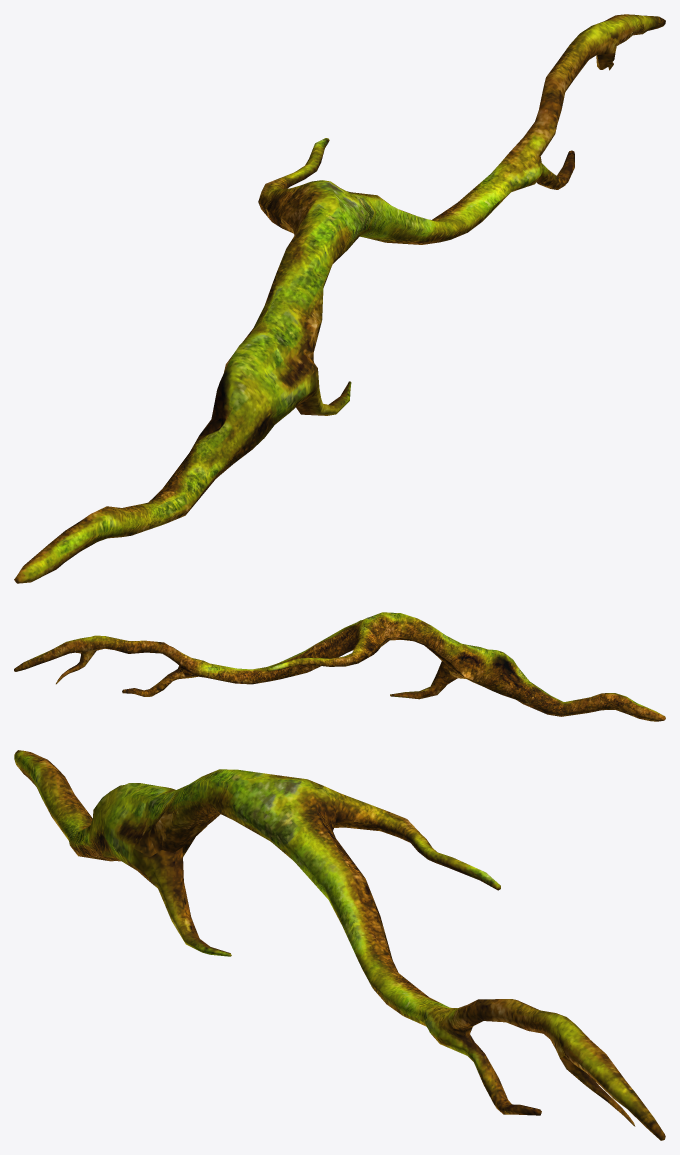
File: 1_ZhiWu_shuGen01.FBX
3 renders of one model, top to bottom at view 1: azimuth 30°, elevation 25°; view 2: azimuth 150°, elevation 25°; view 3: azimuth 270°, elevation 25°, orthographic. The views are drawn at different scales.
Visible parts, largest first — view 1: DrawCall_0097; view 2: DrawCall_0097; view 3: DrawCall_0097.
Part boxes in pixels (x1,y1,x2,y2): DrawCall_0097: (14,14,665,583); DrawCall_0097: (14,612,665,721); DrawCall_0097: (14,750,665,1140).
Size of the model in its own units: 0.2567 by 0.0509 by 0.1475.
